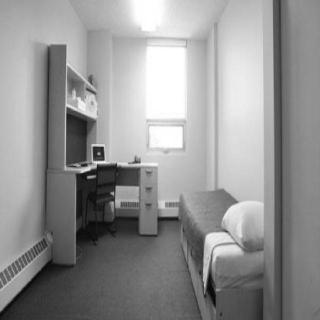other: (179, 185, 231, 238)
